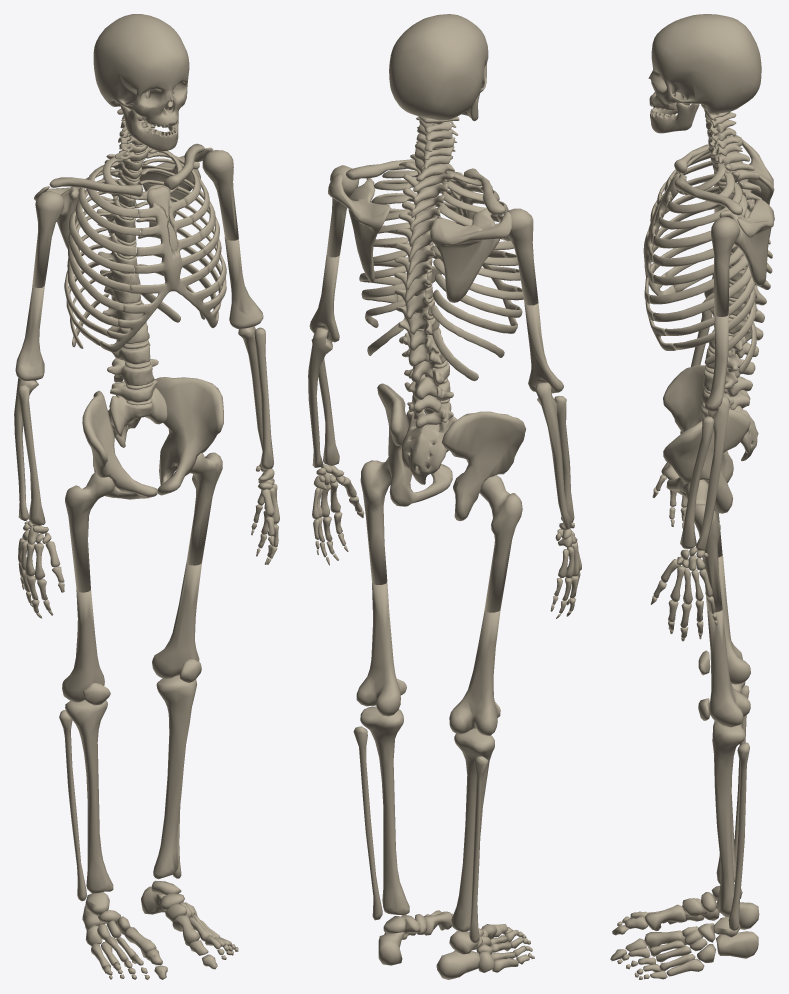
Rendered from pediatric_adolescent_female.skeletal.LOD1.glb.
3 renders of one model, left to right at view 1: azimuth 30°, elevation 25°; view 2: azimuth 150°, elevation 25°; view 3: azimuth 270°, elevation 25°, orthographic. The views are drawn at different scales.
Visible parts, largest first — view 1: PEDIATRIC.ADOLESCENT.FEMALE.SKELETAL.RIBS_CORTICAL, PEDIATRIC.ADOLESCENT.FEMALE.SKELETAL.CRANIUM_CORTICAL, PEDIATRIC.ADOLESCENT.FEMALE.SKELETAL.PELVIS_CORTICAL, PEDIATRIC.ADOLESCENT.FEMALE.SKELETAL.TIBIAE_CORTICAL, PEDIATRIC.ADOLESCENT.FEMALE.SKELETAL.CARTILAGE_TRUNK, PEDIATRIC.ADOLESCENT.FEMALE.SKELETAL.ANKLES_AND_FOOT_CORTICA, PEDIATRIC.ADOLESCENT.FEMALE.SKELETAL.FEMORA_LOWER_CORTICAL, PEDIATRIC.ADOLESCENT.FEMALE.SKELETAL.FEMORA_UPPER_CORTICAL, PEDIATRIC.ADOLESCENT.FEMALE.SKELETAL.WRISTS_AND_HAND_BONES_C, PEDIATRIC.ADOLESCENT.FEMALE.SKELETAL.HUMERI_UPPER_CORTICAL, PEDIATRIC.ADOLESCENT.FEMALE.SKELETAL.HUMERI_LOWER_CORTICAL, PEDIATRIC.ADOLESCENT.FEMALE.SKELETAL.RADII_CORTICAL (+11 smaller); view 2: PEDIATRIC.ADOLESCENT.FEMALE.SKELETAL.RIBS_CORTICAL, PEDIATRIC.ADOLESCENT.FEMALE.SKELETAL.CRANIUM_CORTICAL, PEDIATRIC.ADOLESCENT.FEMALE.SKELETAL.PELVIS_CORTICAL, PEDIATRIC.ADOLESCENT.FEMALE.SKELETAL.TIBIAE_CORTICAL, PEDIATRIC.ADOLESCENT.FEMALE.SKELETAL.SCAPULAE_CORTICAL, PEDIATRIC.ADOLESCENT.FEMALE.SKELETAL.FEMORA_LOWER_CORTICAL, PEDIATRIC.ADOLESCENT.FEMALE.SKELETAL.THORACIC_SPINE_CORTICAL, PEDIATRIC.ADOLESCENT.FEMALE.SKELETAL.FEMORA_UPPER_CORTICAL, PEDIATRIC.ADOLESCENT.FEMALE.SKELETAL.ANKLES_AND_FOOT_CORTICA, PEDIATRIC.ADOLESCENT.FEMALE.SKELETAL.WRISTS_AND_HAND_BONES_C, PEDIATRIC.ADOLESCENT.FEMALE.SKELETAL.LUMBAR_SPINE_CORTICAL, PEDIATRIC.ADOLESCENT.FEMALE.SKELETAL.ULNAE_CORTICAL (+8 smaller); view 3: PEDIATRIC.ADOLESCENT.FEMALE.SKELETAL.RIBS_CORTICAL, PEDIATRIC.ADOLESCENT.FEMALE.SKELETAL.CRANIUM_CORTICAL, PEDIATRIC.ADOLESCENT.FEMALE.SKELETAL.ANKLES_AND_FOOT_CORTICA, PEDIATRIC.ADOLESCENT.FEMALE.SKELETAL.PELVIS_CORTICAL, PEDIATRIC.ADOLESCENT.FEMALE.SKELETAL.FEMORA_LOWER_CORTICAL, PEDIATRIC.ADOLESCENT.FEMALE.SKELETAL.TIBIAE_CORTICAL, PEDIATRIC.ADOLESCENT.FEMALE.SKELETAL.WRISTS_AND_HAND_BONES_C, PEDIATRIC.ADOLESCENT.FEMALE.SKELETAL.SCAPULAE_CORTICAL, PEDIATRIC.ADOLESCENT.FEMALE.SKELETAL.LUMBAR_SPINE_CORTICAL, PEDIATRIC.ADOLESCENT.FEMALE.SKELETAL.CARTILAGE_TRUNK, PEDIATRIC.ADOLESCENT.FEMALE.SKELETAL.HUMERI_UPPER_CORTICAL, PEDIATRIC.ADOLESCENT.FEMALE.SKELETAL.FIBULAE_CORTICAL (+10 smaller).
Boxes of the visible parts, <box> form: PEDIATRIC.ADOLESCENT.FEMALE.SKELETAL.RIBS_CORTICAL: <box>64,149,226,348</box>; PEDIATRIC.ADOLESCENT.FEMALE.SKELETAL.CRANIUM_CORTICAL: <box>93,14,189,127</box>; PEDIATRIC.ADOLESCENT.FEMALE.SKELETAL.PELVIS_CORTICAL: <box>82,377,223,499</box>; PEDIATRIC.ADOLESCENT.FEMALE.SKELETAL.TIBIAE_CORTICAL: <box>65,675,196,893</box>; PEDIATRIC.ADOLESCENT.FEMALE.SKELETAL.CARTILAGE_TRUNK: <box>100,120,221,405</box>; PEDIATRIC.ADOLESCENT.FEMALE.SKELETAL.ANKLES_AND_FOOT_CORTICA: <box>82,880,238,979</box>; PEDIATRIC.ADOLESCENT.FEMALE.SKELETAL.FEMORA_LOWER_CORTICAL: <box>62,562,201,702</box>; PEDIATRIC.ADOLESCENT.FEMALE.SKELETAL.FEMORA_UPPER_CORTICAL: <box>65,452,222,592</box>; PEDIATRIC.ADOLESCENT.FEMALE.SKELETAL.WRISTS_AND_HAND_BONES_C: <box>18,464,279,618</box>; PEDIATRIC.ADOLESCENT.FEMALE.SKELETAL.HUMERI_UPPER_CORTICAL: <box>32,150,238,288</box>; PEDIATRIC.ADOLESCENT.FEMALE.SKELETAL.HUMERI_LOWER_CORTICAL: <box>15,237,263,380</box>; PEDIATRIC.ADOLESCENT.FEMALE.SKELETAL.RADII_CORTICAL: <box>18,327,273,525</box>; PEDIATRIC.ADOLESCENT.FEMALE.SKELETAL.RIBS_CORTICAL: <box>359,161,523,381</box>; PEDIATRIC.ADOLESCENT.FEMALE.SKELETAL.CRANIUM_CORTICAL: <box>389,14,488,120</box>; PEDIATRIC.ADOLESCENT.FEMALE.SKELETAL.PELVIS_CORTICAL: <box>377,383,525,521</box>; PEDIATRIC.ADOLESCENT.FEMALE.SKELETAL.TIBIAE_CORTICAL: <box>360,706,494,931</box>; PEDIATRIC.ADOLESCENT.FEMALE.SKELETAL.SCAPULAE_CORTICAL: <box>328,174,511,302</box>; PEDIATRIC.ADOLESCENT.FEMALE.SKELETAL.FEMORA_LOWER_CORTICAL: <box>356,582,500,735</box>; PEDIATRIC.ADOLESCENT.FEMALE.SKELETAL.THORACIC_SPINE_CORTICAL: <box>394,161,454,350</box>; PEDIATRIC.ADOLESCENT.FEMALE.SKELETAL.FEMORA_UPPER_CORTICAL: <box>360,457,522,612</box>; PEDIATRIC.ADOLESCENT.FEMALE.SKELETAL.ANKLES_AND_FOOT_CORTICA: <box>378,910,534,979</box>; PEDIATRIC.ADOLESCENT.FEMALE.SKELETAL.WRISTS_AND_HAND_BONES_C: <box>312,464,581,618</box>; PEDIATRIC.ADOLESCENT.FEMALE.SKELETAL.LUMBAR_SPINE_CORTICAL: <box>399,328,453,428</box>; PEDIATRIC.ADOLESCENT.FEMALE.SKELETAL.ULNAE_CORTICAL: <box>308,327,571,529</box>; PEDIATRIC.ADOLESCENT.FEMALE.SKELETAL.RIBS_CORTICAL: <box>649,149,756,373</box>; PEDIATRIC.ADOLESCENT.FEMALE.SKELETAL.CRANIUM_CORTICAL: <box>648,14,761,113</box>; PEDIATRIC.ADOLESCENT.FEMALE.SKELETAL.ANKLES_AND_FOOT_CORTICA: <box>610,884,759,979</box>; PEDIATRIC.ADOLESCENT.FEMALE.SKELETAL.PELVIS_CORTICAL: <box>663,364,750,513</box>; PEDIATRIC.ADOLESCENT.FEMALE.SKELETAL.FEMORA_LOWER_CORTICAL: <box>707,554,750,727</box>; PEDIATRIC.ADOLESCENT.FEMALE.SKELETAL.TIBIAE_CORTICAL: <box>712,681,745,915</box>; PEDIATRIC.ADOLESCENT.FEMALE.SKELETAL.WRISTS_AND_HAND_BONES_C: <box>650,462,717,641</box>; PEDIATRIC.ADOLESCENT.FEMALE.SKELETAL.SCAPULAE_CORTICAL: <box>719,139,774,285</box>; PEDIATRIC.ADOLESCENT.FEMALE.SKELETAL.LUMBAR_SPINE_CORTICAL: <box>701,316,763,409</box>; PEDIATRIC.ADOLESCENT.FEMALE.SKELETAL.CARTILAGE_TRUNK: <box>643,119,745,408</box>; PEDIATRIC.ADOLESCENT.FEMALE.SKELETAL.HUMERI_UPPER_CORTICAL: <box>711,135,739,316</box>; PEDIATRIC.ADOLESCENT.FEMALE.SKELETAL.FIBULAE_CORTICAL: <box>728,685,749,930</box>.
Bounding box in the file's own units: 0.4577 × 1.6 × 0.2557.
